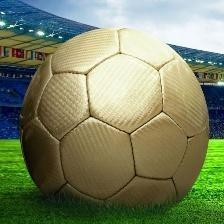Sports-Ball: (15, 28, 210, 218)
